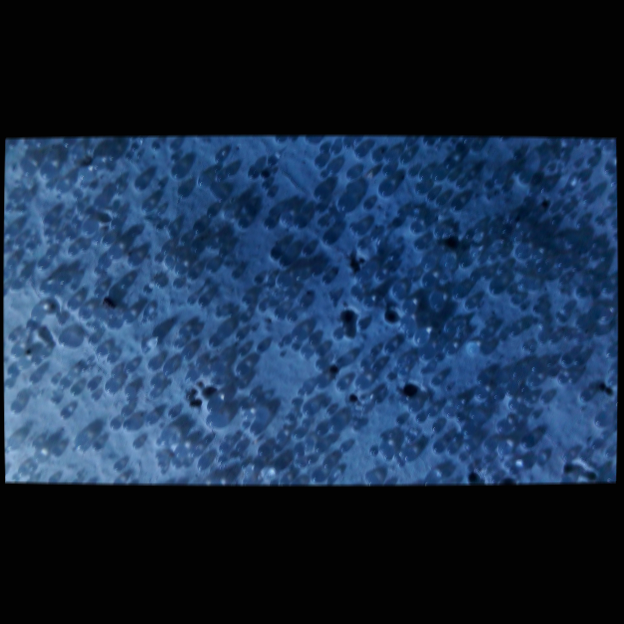GrassBeadSeg: (44, 171, 441, 478), (160, 293, 447, 444), (84, 344, 429, 448), (431, 254, 570, 481), (197, 208, 404, 347), (6, 230, 196, 373), (143, 264, 396, 353), (204, 231, 375, 343), (413, 238, 559, 342), (41, 163, 355, 210), (8, 217, 119, 341), (383, 340, 517, 422), (301, 409, 472, 471), (465, 358, 573, 450), (471, 234, 521, 418), (365, 396, 465, 484), (157, 381, 303, 438), (432, 169, 508, 274), (17, 306, 88, 413), (216, 263, 251, 474), (94, 286, 219, 345), (475, 302, 517, 470), (476, 388, 591, 449), (414, 327, 487, 423), (153, 259, 337, 297), (94, 246, 227, 296), (446, 324, 515, 420), (317, 320, 454, 368), (461, 135, 587, 186), (31, 372, 120, 442), (163, 332, 317, 372), (429, 334, 547, 386), (407, 223, 512, 281), (26, 318, 100, 400), (299, 298, 336, 462), (42, 153, 80, 312), (16, 323, 100, 394), (229, 386, 310, 458), (220, 408, 334, 456), (111, 367, 165, 466), (464, 176, 503, 306), (445, 383, 497, 477), (223, 193, 273, 287), (341, 140, 471, 176), (504, 351, 618, 392), (23, 376, 69, 475), (188, 151, 223, 279), (5, 206, 67, 278), (535, 197, 594, 272), (28, 438, 161, 470), (310, 203, 373, 270), (10, 395, 58, 481), (293, 255, 457, 280), (514, 420, 607, 464), (535, 394, 592, 465), (424, 366, 518, 408), (511, 374, 579, 431), (303, 195, 348, 280), (395, 185, 508, 218), (248, 150, 381, 178), (536, 252, 610, 302), (92, 222, 163, 274), (337, 428, 418, 473), (50, 422, 155, 455), (452, 253, 530, 295), (216, 193, 325, 223), (532, 380, 606, 423), (142, 199, 203, 251), (575, 141, 611, 228), (283, 335, 311, 446), (521, 248, 597, 288), (65, 416, 121, 470), (423, 252, 451, 359), (189, 406, 248, 456), (236, 348, 325, 381), (432, 439, 548, 463), (57, 420, 134, 456), (406, 135, 477, 173), (238, 216, 292, 265), (15, 178, 53, 247), (185, 422, 250, 462), (293, 423, 358, 463), (538, 398, 610, 434), (564, 215, 603, 280), (102, 325, 189, 354), (200, 227, 280, 258), (462, 171, 529, 208), (145, 284, 222, 316), (88, 237, 112, 337), (162, 246, 207, 299), (295, 396, 407, 417), (285, 274, 386, 297), (330, 148, 372, 203), (174, 325, 199, 416), (489, 263, 570, 291), (415, 243, 479, 278), (150, 331, 189, 387), (291, 155, 324, 220), (395, 360, 437, 411), (31, 142, 52, 244), (17, 464, 208, 475), (114, 175, 224, 194), (96, 208, 163, 239), (472, 250, 529, 286), (147, 268, 187, 319), (456, 293, 491, 351), (72, 187, 121, 228), (314, 424, 388, 451), (186, 268, 239, 305), (425, 192, 481, 227), (99, 185, 188, 207), (74, 430, 176, 449), (184, 191, 217, 249), (145, 414, 181, 467), (149, 343, 183, 398), (318, 134, 360, 177), (493, 244, 529, 294), (546, 266, 612, 293), (441, 226, 495, 259), (266, 170, 327, 199), (554, 203, 580, 271), (210, 377, 249, 422), (517, 304, 542, 374), (455, 178, 534, 200), (395, 169, 415, 255), (516, 166, 586, 190), (540, 360, 583, 399), (291, 345, 443, 356), (334, 318, 368, 367), (43, 296, 77, 345), (158, 307, 255, 324), (530, 177, 593, 203), (85, 380, 119, 428), (29, 368, 210, 377), (463, 257, 484, 333), (138, 407, 176, 448), (557, 194, 615, 220), (84, 256, 108, 318), (509, 377, 566, 403), (417, 431, 464, 462), (242, 452, 286, 485), (159, 435, 212, 462), (68, 297, 98, 344), (420, 385, 487, 406), (155, 434, 211, 459), (549, 216, 602, 242), (29, 359, 84, 384), (302, 300, 341, 335), (50, 315, 65, 404), (414, 162, 457, 193), (399, 151, 444, 180), (249, 288, 280, 330), (566, 215, 604, 249), (516, 275, 567, 300), (575, 355, 616, 386), (11, 279, 36, 329), (336, 356, 405, 374), (379, 466, 516, 475), (558, 373, 572, 461), (334, 332, 369, 367), (93, 196, 110, 268), (356, 243, 380, 294), (125, 361, 158, 398), (578, 322, 616, 354), (319, 141, 383, 160), (85, 145, 178, 158), (52, 210, 91, 241), (213, 376, 227, 462), (302, 244, 332, 284), (446, 326, 490, 353), (387, 331, 413, 375), (7, 330, 40, 364), (325, 149, 395, 165), (484, 322, 519, 354), (413, 165, 553, 173), (200, 364, 246, 388), (121, 281, 165, 306), (5, 183, 55, 205), (512, 322, 603, 334), (445, 272, 464, 328), (61, 328, 92, 362), (226, 154, 276, 175), (173, 277, 209, 306), (420, 291, 440, 343), (250, 391, 295, 414), (456, 393, 501, 416), (39, 347, 86, 369), (315, 357, 347, 389), (302, 239, 366, 255), (235, 441, 303, 456), (530, 205, 586, 223), (229, 290, 282, 309), (508, 230, 542, 259), (16, 375, 57, 399), (251, 413, 286, 441), (35, 140, 175, 147), (28, 461, 191, 467), (393, 157, 454, 173), (483, 402, 523, 426), (11, 443, 40, 476), (462, 422, 496, 450), (326, 150, 367, 173), (92, 439, 122, 470), (538, 182, 571, 210), (287, 398, 327, 421), (454, 398, 494, 421), (272, 443, 315, 464), (402, 420, 425, 459), (246, 280, 274, 312), (445, 444, 492, 463), (466, 429, 493, 461), (370, 347, 442, 359), (384, 396, 407, 433), (431, 421, 456, 455), (459, 256, 475, 309), (532, 394, 585, 410), (336, 363, 371, 387), (435, 177, 466, 204), (467, 340, 489, 378), (68, 302, 131, 315), (164, 232, 188, 266), (174, 338, 204, 365), (426, 187, 461, 210), (394, 415, 441, 432), (251, 422, 304, 437), (5, 376, 71, 388), (50, 379, 99, 395), (498, 440, 527, 467), (44, 214, 76, 238), (364, 270, 384, 308), (197, 447, 230, 470), (37, 235, 65, 262), (240, 316, 266, 345), (482, 330, 557, 340), (148, 205, 216, 216), (301, 417, 323, 451), (209, 335, 248, 354), (532, 248, 598, 259), (20, 268, 49, 293), (356, 396, 381, 425), (378, 431, 403, 460), (367, 445, 412, 461), (5, 225, 35, 249), (84, 320, 104, 356), (378, 395, 395, 437), (236, 328, 267, 351), (519, 370, 556, 389), (586, 291, 610, 320), (276, 295, 309, 316), (220, 441, 269, 455), (576, 164, 614, 182), (156, 269, 196, 286), (408, 398, 456, 412), (555, 309, 611, 321), (512, 146, 568, 158), (420, 172, 502, 180), (425, 375, 441, 416), (164, 250, 229, 260), (354, 144, 397, 159), (537, 339, 557, 371), (509, 374, 539, 395), (464, 231, 485, 261), (357, 322, 414, 333), (73, 152, 84, 209), (385, 342, 454, 351), (374, 231, 396, 259), (164, 173, 223, 183), (560, 315, 572, 364), (91, 144, 174, 151), (419, 366, 451, 384), (238, 398, 249, 450), (501, 426, 532, 444), (167, 361, 198, 379), (453, 173, 490, 188), (258, 436, 287, 455), (575, 316, 604, 335), (286, 205, 311, 227), (401, 156, 428, 176), (20, 239, 33, 280), (603, 161, 617, 199), (443, 403, 454, 451), (121, 277, 133, 321), (562, 160, 579, 191), (193, 211, 218, 232), (321, 449, 348, 468), (423, 137, 480, 146), (5, 257, 21, 289), (10, 357, 27, 387), (6, 237, 23, 267), (432, 173, 454, 196), (357, 163, 393, 177), (59, 393, 80, 417), (483, 438, 533, 448), (143, 287, 193, 297), (80, 233, 111, 249), (510, 362, 541, 378), (434, 195, 446, 236), (155, 235, 176, 258), (592, 139, 612, 163), (497, 419, 511, 453), (98, 438, 141, 449), (107, 353, 133, 371), (242, 293, 268, 311), (510, 295, 543, 309), (386, 356, 406, 379), (230, 435, 247, 462), (575, 285, 613, 297), (368, 362, 380, 400), (228, 433, 245, 459), (474, 459, 510, 471), (569, 375, 617, 384), (244, 408, 261, 433), (314, 442, 331, 467), (47, 244, 77, 258), (11, 371, 21, 412), (577, 261, 598, 280), (592, 438, 614, 456), (185, 260, 218, 272), (483, 263, 507, 279), (306, 425, 316, 463), (479, 463, 498, 483), (297, 439, 311, 466), (38, 246, 55, 268), (552, 164, 564, 195), (537, 204, 570, 215), (462, 246, 479, 267), (559, 146, 580, 163), (546, 182, 557, 214), (170, 455, 199, 467), (96, 344, 115, 362), (258, 396, 300, 404), (579, 441, 601, 456), (273, 307, 298, 320), (156, 276, 183, 288), (68, 238, 88, 254), (195, 330, 204, 365), (192, 239, 218, 251), (255, 277, 266, 305), (369, 350, 376, 394), (267, 181, 276, 215), (249, 217, 274, 229), (110, 414, 130, 429), (500, 223, 510, 253), (403, 135, 433, 145), (120, 406, 133, 429), (595, 252, 608, 275), (399, 412, 426, 423), (93, 237, 102, 270), (161, 237, 190, 247), (122, 152, 131, 184), (159, 144, 177, 160), (600, 433, 615, 452), (72, 192, 82, 220), (471, 459, 511, 466), (6, 363, 29, 375), (582, 157, 595, 178), (88, 183, 122, 191), (414, 271, 448, 279), (70, 385, 96, 395), (476, 371, 488, 392), (378, 441, 392, 459), (572, 237, 600, 246), (274, 205, 310, 212), (287, 293, 297, 318), (338, 166, 357, 179), (215, 155, 234, 168), (239, 297, 252, 316), (248, 167, 270, 178), (275, 211, 290, 227), (471, 268, 491, 280), (362, 293, 382, 305), (393, 429, 401, 459), (260, 158, 277, 172), (278, 446, 304, 455), (40, 278, 69, 286), (108, 312, 146, 318), (277, 272, 292, 287), (171, 162, 186, 177), (328, 415, 343, 430), (6, 434, 21, 449), (563, 452, 588, 461), (455, 135, 470, 150), (510, 151, 520, 173), (157, 180, 164, 211), (492, 388, 528, 394), (313, 185, 328, 199), (421, 253, 436, 267), (127, 252, 142, 266), (109, 244, 124, 258), (92, 156, 107, 170), (78, 165, 92, 180), (235, 361, 250, 375), (211, 359, 226, 373), (292, 325, 307, 339), (262, 465, 277, 479), (354, 374, 369, 388), (181, 345, 196, 359), (299, 342, 314, 356), (313, 373, 328, 387), (147, 355, 162, 369), (30, 305, 45, 319), (421, 272, 436, 286), (355, 268, 370, 282), (392, 283, 407, 297), (489, 181, 508, 192), (58, 319, 99, 324), (234, 451, 246, 468), (87, 181, 121, 187), (322, 230, 336, 244), (294, 214, 308, 228), (378, 182, 392, 196), (410, 219, 424, 233), (198, 172, 212, 186), (83, 219, 97, 233), (134, 175, 148, 189), (55, 179, 69, 193), (10, 343, 24, 357), (105, 378, 119, 392), (35, 447, 49, 461), (174, 443, 188, 457), (218, 323, 232, 337), (207, 397, 221, 411), (353, 221, 367, 235), (400, 314, 414, 328), (276, 253, 290, 267), (23, 160, 36, 175), (206, 413, 221, 426), (303, 399, 316, 414), (311, 467, 324, 482), (321, 432, 337, 444), (231, 273, 263, 279), (66, 220, 82, 232), (310, 269, 331, 278), (124, 383, 137, 397), (402, 299, 416, 312), (463, 167, 477, 180), (319, 143, 339, 152), (252, 389, 264, 404), (285, 461, 295, 479), (260, 181, 275, 193), (236, 332, 247, 348), (316, 204, 324, 226), (371, 366, 406, 371), (332, 441, 349, 451), (372, 451, 393, 459), (310, 336, 324, 348), (461, 142, 482, 150), (143, 143, 158, 154), (155, 224, 175, 232), (456, 320, 465, 337), (492, 248, 507, 258), (175, 262, 186, 274), (44, 218, 54, 231), (23, 141, 43, 147), (31, 351, 48, 358), (99, 322, 112, 331), (216, 309, 235, 315), (293, 388, 304, 398), (524, 394, 534, 405), (453, 397, 464, 407), (282, 339, 300, 345), (348, 134, 360, 143), (155, 438, 162, 453), (319, 400, 334, 407), (223, 433, 236, 441), (396, 452, 404, 465), (79, 181, 96, 187), (329, 468, 339, 478), (530, 362, 540, 372), (166, 225, 177, 234), (107, 313, 114, 327), (135, 145, 143, 157), (76, 207, 92, 213), (44, 231, 63, 236), (130, 143, 137, 156), (471, 224, 480, 234), (522, 196, 532, 204), (302, 386, 311, 394), (140, 316, 152, 322), (314, 204, 323, 211), (386, 264, 395, 271), (242, 477, 249, 485), (453, 433, 460, 441), (505, 288, 512, 296), (361, 403, 369, 409), (532, 411, 538, 418), (529, 340, 536, 346), (518, 304, 525, 310), (524, 259, 531, 265), (567, 213, 574, 219), (160, 467, 166, 473), (522, 342, 528, 348), (528, 346, 534, 352), (564, 332, 570, 338), (499, 334, 504, 341), (278, 351, 285, 356), (575, 336, 580, 342), (277, 341, 283, 346)
